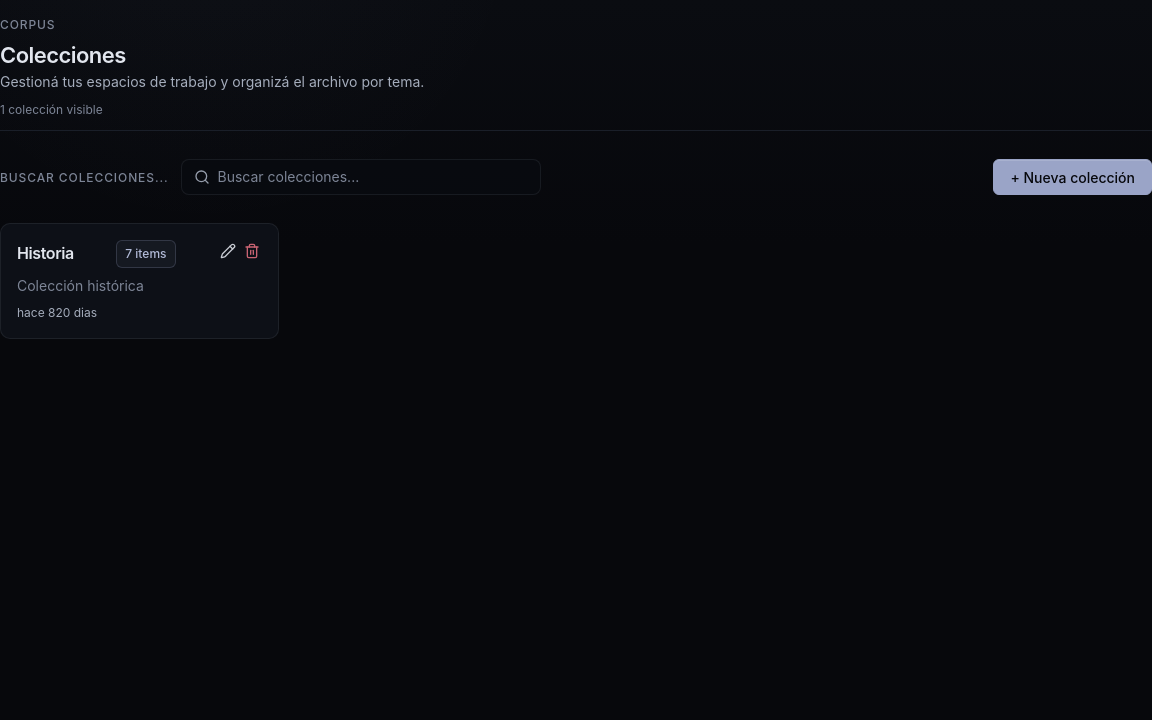
Test: CollectionsView consumer compatibility › renders the confirm delete action as an icon-only trash button
The image size is (1152, 720).
Click the button named "Delete collection": (252, 254) x1=242 y1=241 x2=262 y2=267
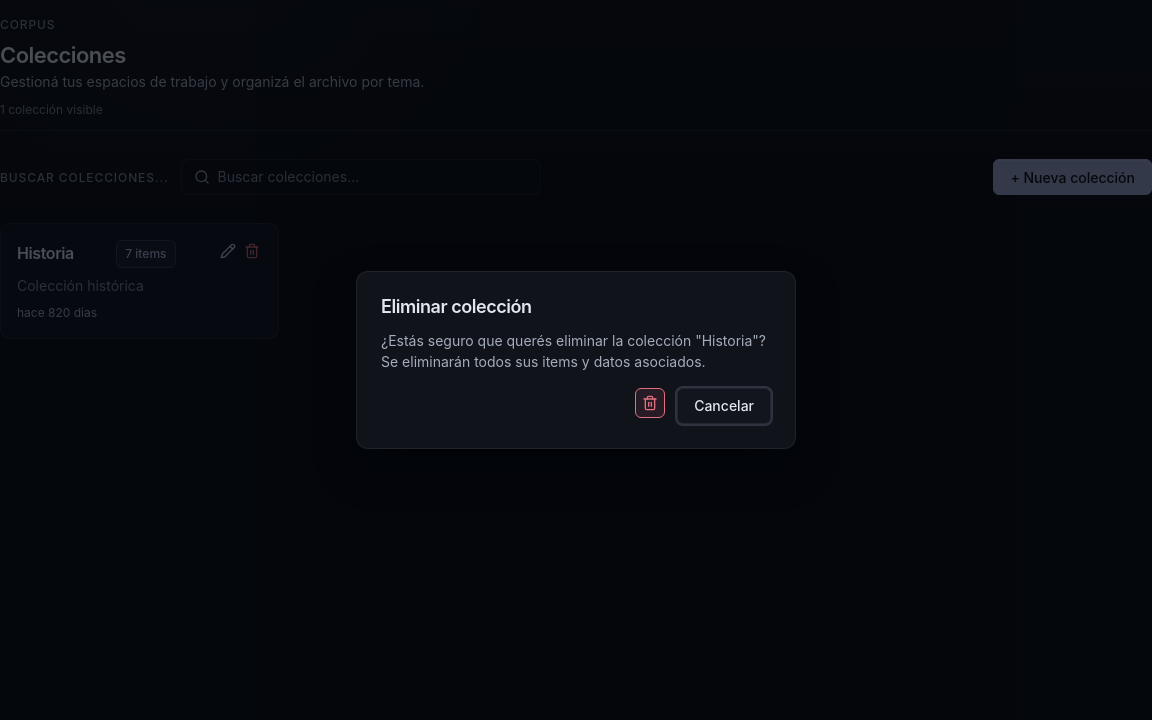
Expected: the button named "Eliminar colección" does not show "Eliminar", x1=635 y1=388 x2=665 y2=418
Result: the icon is shown at x1=642 y1=395 x2=658 y2=411
